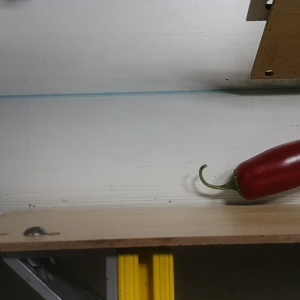Cut Point: (224, 162, 258, 202)
